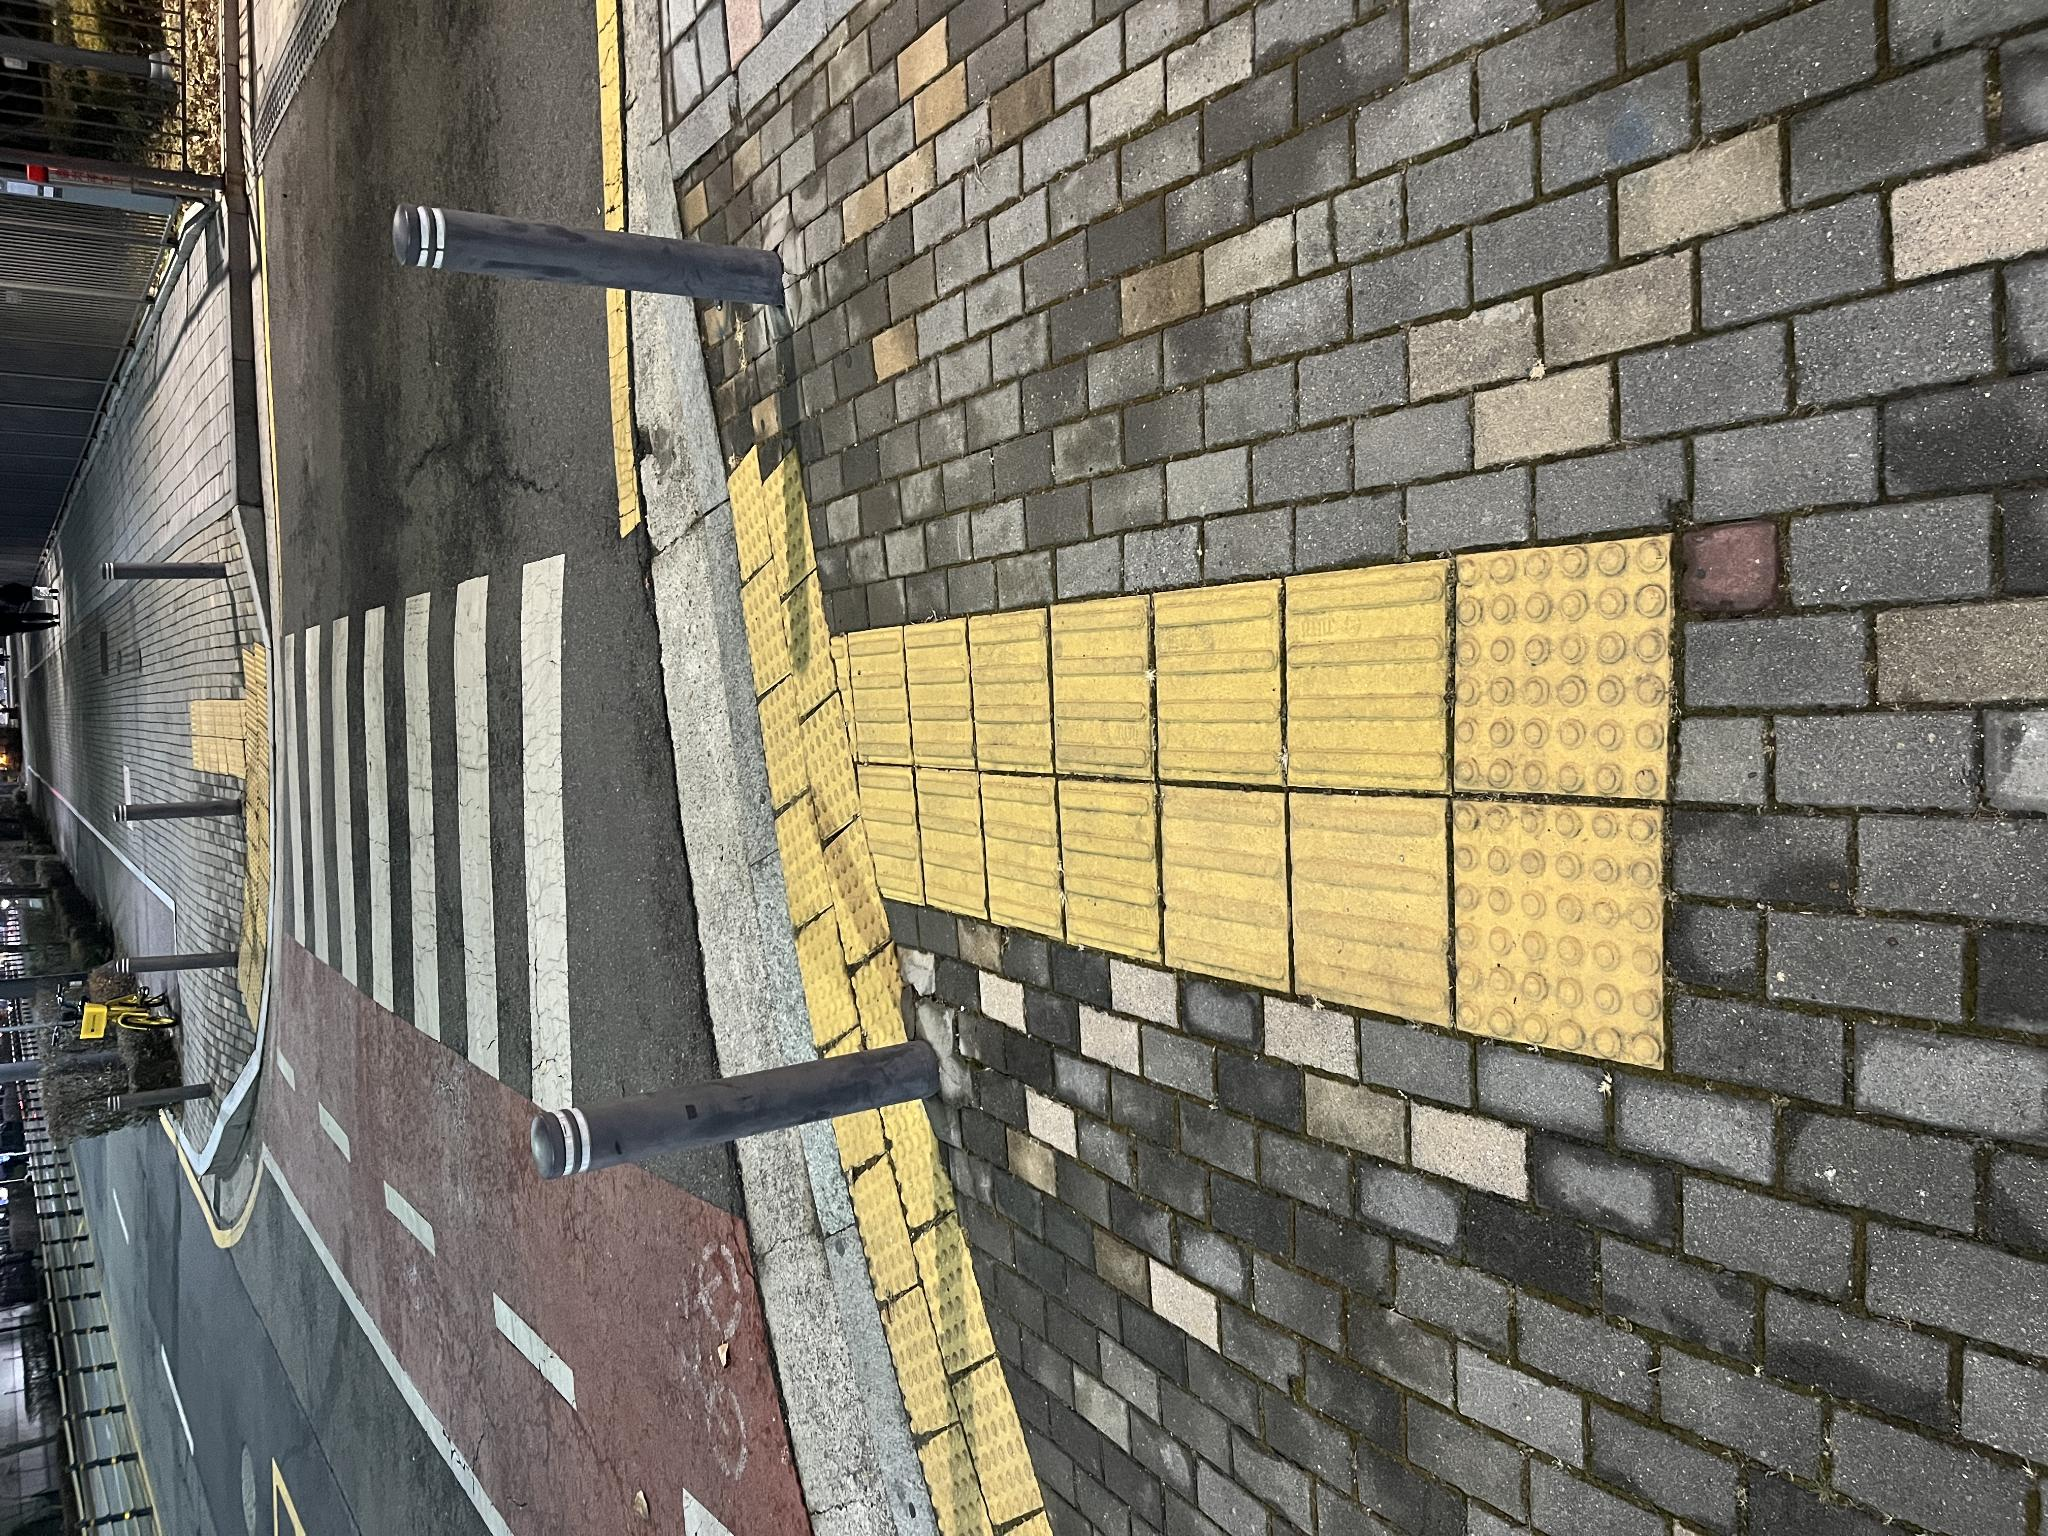Stop block normal: (490, 1454, 735, 1536), (743, 1457, 987, 1536)
Straight block normal: (745, 1288, 974, 1449), (513, 1289, 742, 1447), (751, 1154, 955, 1283), (547, 1160, 750, 1286), (574, 1058, 755, 1160), (760, 1050, 940, 1150), (764, 970, 927, 1052), (598, 979, 761, 1062)
